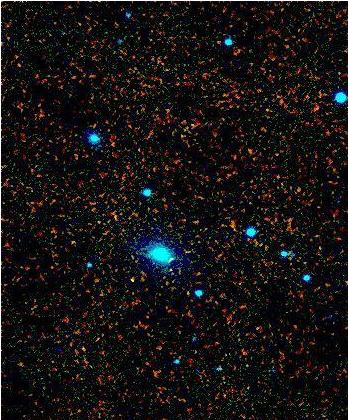star: (71, 333, 101, 363)
